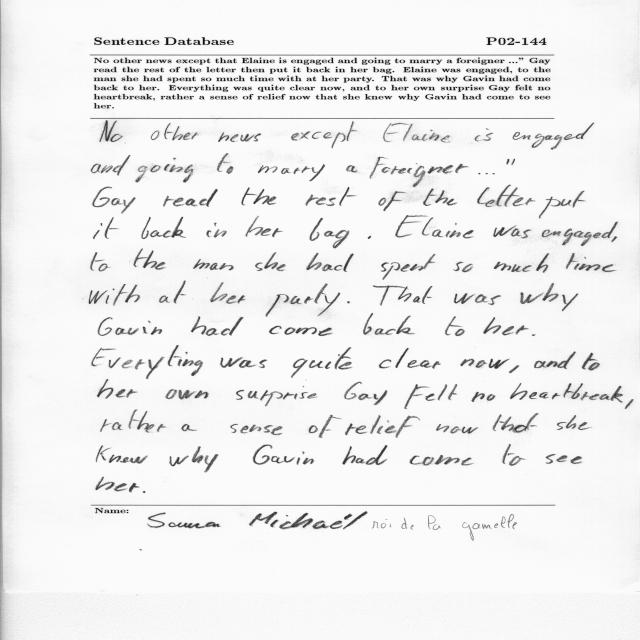word: (92, 346, 203, 379), (370, 157, 469, 187), (266, 283, 341, 317), (510, 383, 623, 403), (513, 123, 595, 150), (291, 347, 352, 378), (291, 121, 357, 149), (542, 222, 618, 246), (395, 216, 474, 239), (345, 415, 420, 438), (236, 386, 318, 406), (521, 283, 579, 311), (101, 410, 167, 433), (136, 158, 194, 183), (381, 254, 436, 280), (405, 384, 458, 409), (379, 348, 441, 369), (169, 447, 219, 473), (477, 185, 536, 207), (253, 445, 314, 465), (98, 317, 162, 336), (310, 218, 350, 248), (92, 187, 136, 214), (373, 286, 432, 306), (258, 164, 325, 181), (89, 284, 140, 306), (363, 313, 414, 335), (494, 253, 549, 273), (191, 316, 244, 336), (344, 382, 388, 405), (163, 189, 218, 207), (141, 217, 186, 239), (306, 187, 356, 206), (566, 253, 616, 272), (96, 446, 148, 464), (493, 413, 539, 433), (306, 253, 354, 272), (343, 445, 388, 465), (92, 155, 131, 176), (484, 318, 529, 336), (98, 379, 138, 399), (245, 216, 283, 237), (151, 123, 197, 140), (210, 282, 245, 304), (309, 415, 342, 438), (534, 351, 576, 369), (95, 477, 140, 492), (539, 197, 571, 218), (134, 249, 166, 270), (269, 326, 333, 336), (409, 455, 473, 465), (242, 188, 277, 206), (159, 281, 186, 303), (255, 252, 286, 271), (230, 424, 283, 435), (423, 189, 457, 206), (454, 293, 501, 305), (379, 191, 407, 211), (383, 123, 412, 142), (94, 217, 119, 239), (220, 357, 267, 368), (557, 415, 591, 430), (502, 444, 525, 466), (412, 130, 450, 143), (493, 226, 531, 239), (460, 359, 509, 369), (165, 389, 209, 400), (100, 121, 123, 142), (193, 259, 234, 270), (218, 132, 261, 142), (436, 424, 478, 434), (445, 316, 465, 336), (91, 253, 110, 272), (546, 454, 582, 464), (582, 353, 600, 371), (217, 154, 233, 174), (206, 223, 227, 238), (475, 128, 494, 141), (472, 392, 496, 402), (573, 191, 586, 208), (453, 262, 473, 272), (182, 424, 197, 431), (625, 399, 634, 409), (346, 165, 357, 173), (509, 365, 519, 373), (506, 159, 515, 165), (611, 237, 617, 243), (478, 173, 495, 174), (368, 236, 371, 239), (347, 301, 350, 304), (532, 334, 536, 336), (143, 491, 146, 493)
